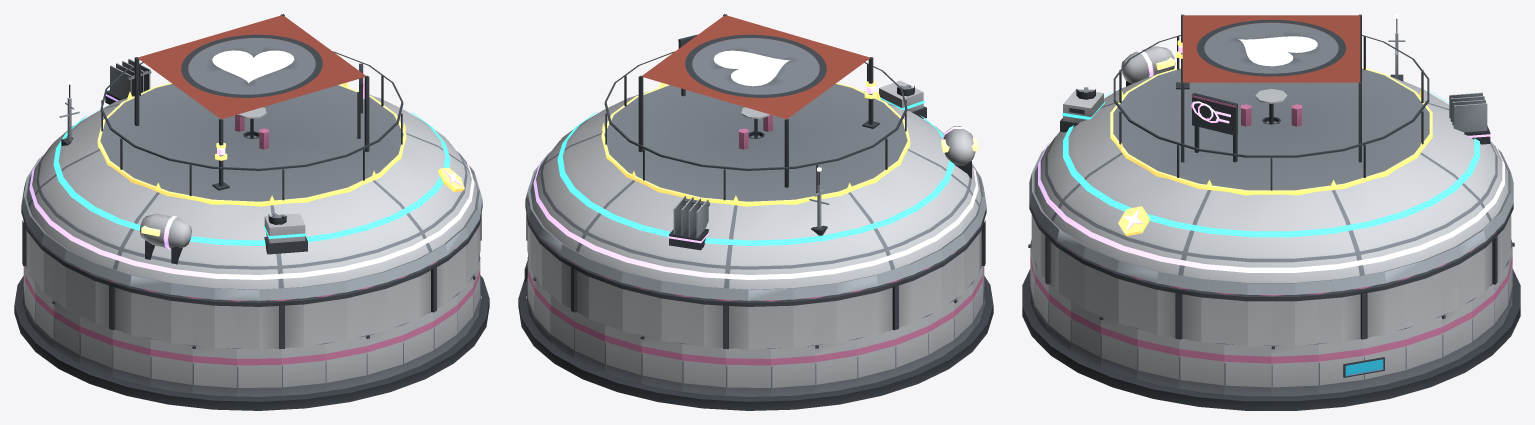
The model's file is cantina_s.glb.
3 views of the same model, side by side, from view 1: azimuth 30°, elevation 25°; view 2: azimuth 150°, elevation 25°; view 3: azimuth 270°, elevation 25° (orthographic). The views are drawn at different scales.
Parts seen in each view (by area): view 1: Roof, Base, L4, L3, L5, Wall_20, Wall_21, Upper_21, Wall_22, Wall_19, Upper_20, Upper_22 (+28 smaller); view 2: Roof, Base, L4, L3, L5, Wall_11, Wall_10, Upper_10, Wall_09, Wall_12, Upper_11, Upper_09 (+28 smaller); view 3: Roof, Base, L4, L3, L5, Wall_00, Wall_31, Upper_00, Upper_31, Wall_30, Upper_01, Upper_30 (+31 smaller).
Boxes of the visible parts, x1,y1,x2,y2 form: Roof: [21, 14, 482, 302]; Base: [14, 275, 489, 410]; L4: [29, 59, 474, 279]; L3: [53, 104, 450, 254]; L5: [97, 82, 464, 206]; Wall_20: [192, 345, 236, 396]; Wall_21: [237, 348, 281, 396]; Upper_21: [237, 301, 282, 349]; Wall_22: [282, 343, 325, 395]; Wall_19: [150, 338, 192, 393]; Upper_20: [192, 299, 236, 348]; Upper_22: [282, 297, 325, 348]; Roof: [525, 14, 986, 302]; Base: [518, 276, 993, 410]; L4: [533, 126, 978, 279]; L3: [557, 80, 954, 245]; L5: [601, 81, 910, 206]; Wall_11: [771, 345, 815, 396]; Wall_10: [726, 348, 770, 396]; Upper_10: [725, 301, 770, 349]; Wall_09: [682, 343, 725, 395]; Wall_12: [815, 338, 857, 393]; Upper_11: [771, 299, 815, 348]; Upper_09: [682, 297, 725, 348]; Roof: [1029, 14, 1513, 296]; Base: [1022, 269, 1520, 410]; L4: [1038, 46, 1504, 272]; L3: [1060, 87, 1479, 237]; L5: [1110, 40, 1432, 236]; Wall_00: [1271, 343, 1318, 396]; Wall_31: [1224, 343, 1271, 396]; Upper_00: [1271, 295, 1318, 346]; Upper_31: [1224, 295, 1271, 346]; Wall_30: [1179, 338, 1224, 394]; Upper_01: [1318, 289, 1364, 343]; Upper_30: [1178, 289, 1224, 343].
Size of the model in its own units: 11.74 by 6.78 by 11.74.
